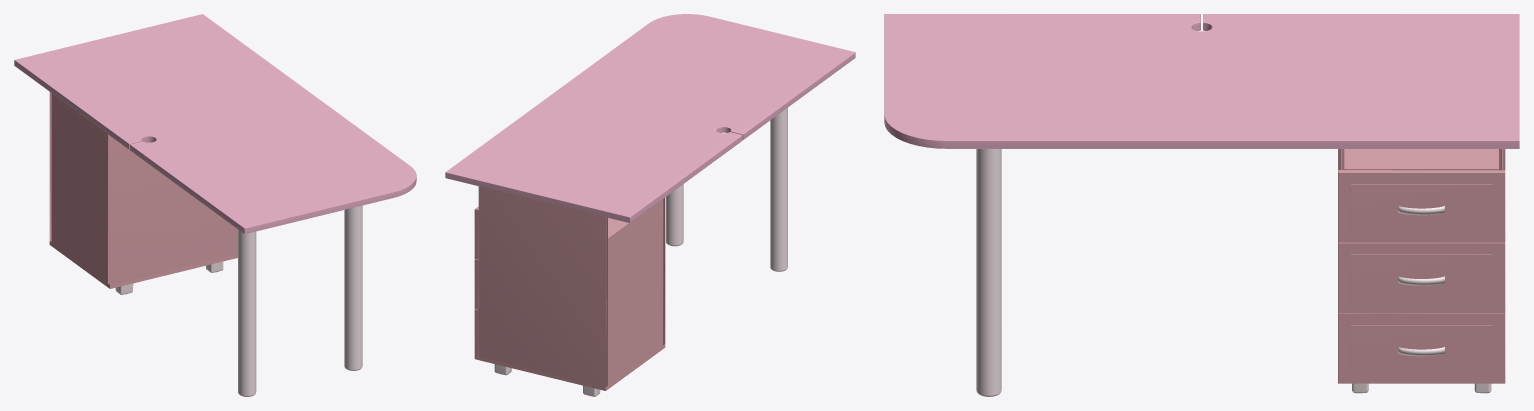
File: officedesk.fbx
3 views of the same model, side by side, from view 1: azimuth 30°, elevation 25°; view 2: azimuth 150°, elevation 25°; view 3: azimuth 270°, elevation 25° (orthographic). The views are drawn at different scales.
Parts seen in each view (by area): view 1: desktop, boxleft, boxback, legback, legfront, boxbot, boxright; view 2: desktop, boxright, boxback, legback, boxbot, legfront, boxmid, boxleft; view 3: desktop, drawer1, drawer2, drawer3, legfront, boxmid.
Part boxes in pixels (x1,y1,x2,y2): desktop: (14, 14, 416, 233); boxleft: (108, 134, 237, 284); boxback: (51, 97, 107, 282); legback: (238, 229, 256, 396); legfront: (344, 205, 362, 370); boxbot: (49, 241, 237, 294); boxright: (49, 92, 51, 241); desktop: (445, 14, 855, 222); boxright: (478, 186, 607, 386); boxback: (608, 202, 662, 385); legback: (770, 107, 787, 271); boxbot: (478, 344, 665, 396); legfront: (666, 184, 683, 246); boxmid: (608, 199, 662, 242); boxleft: (663, 197, 665, 344); desktop: (884, 14, 1519, 148); drawer1: (1338, 170, 1505, 242); drawer2: (1338, 242, 1505, 313); drawer3: (1338, 313, 1505, 383); legfront: (976, 149, 1001, 396); boxmid: (1344, 149, 1498, 170).
Bounding box in the file's own units: 79.02 × 81.39 × 167.
